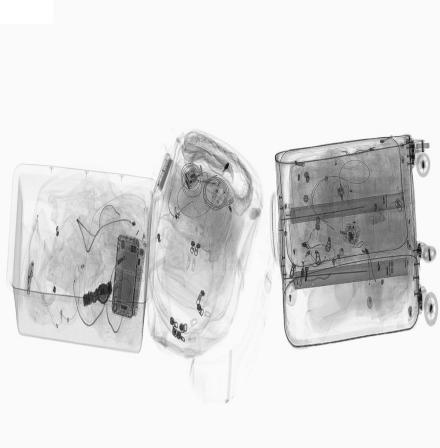Lighter: (195, 176, 223, 193)
